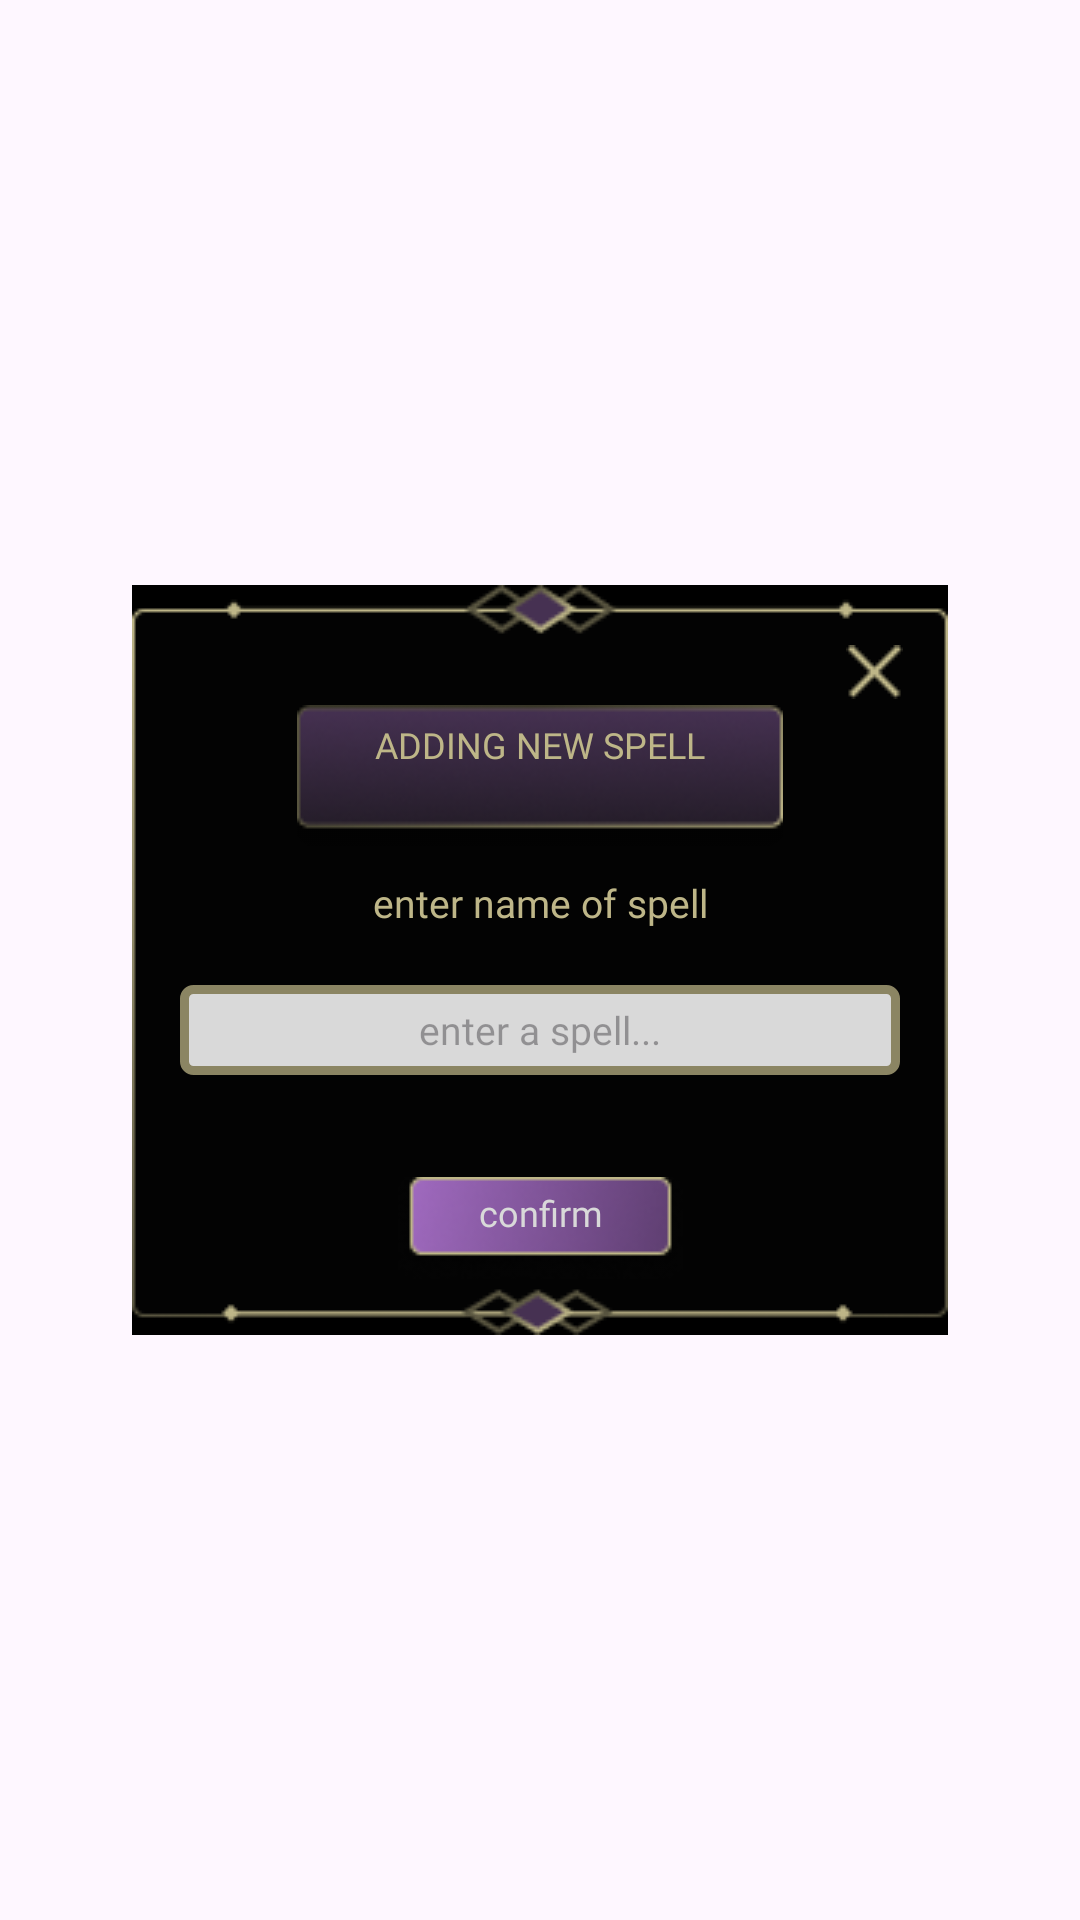

Icons on this 1080x1920 Android screen, each with the point to tap as (x=x, y=y):
account dialog fragment exit: (x=874, y=672)
